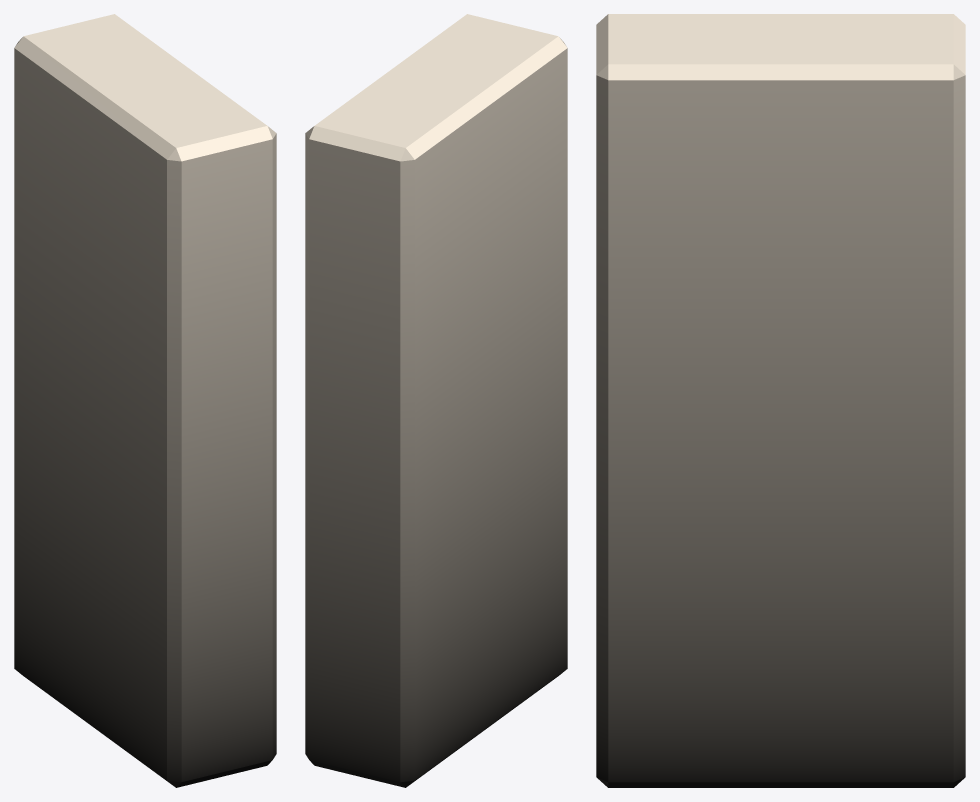
Rendered from SM_VKI_Post_Timber_Mid_Cut.fbx.
The picture shows the model from 3 angles, left to right: view 1: azimuth 30°, elevation 25°; view 2: azimuth 150°, elevation 25°; view 3: azimuth 270°, elevation 25°; orthographic projection. The views are drawn at different scales.
Parts seen in each view (by area): view 1: SM_VKI_Post_Timber_Mid_Cut.001; view 2: SM_VKI_Post_Timber_Mid_Cut.001; view 3: SM_VKI_Post_Timber_Mid_Cut.001.
Boxes of the visible parts, left/top/right/bottom form: SM_VKI_Post_Timber_Mid_Cut.001: left=14, top=14, right=276, bottom=787; SM_VKI_Post_Timber_Mid_Cut.001: left=305, top=14, right=567, bottom=787; SM_VKI_Post_Timber_Mid_Cut.001: left=596, top=14, right=965, bottom=787.
Bounding box in the file's own units: 0.24 × 1.34 × 0.62.
